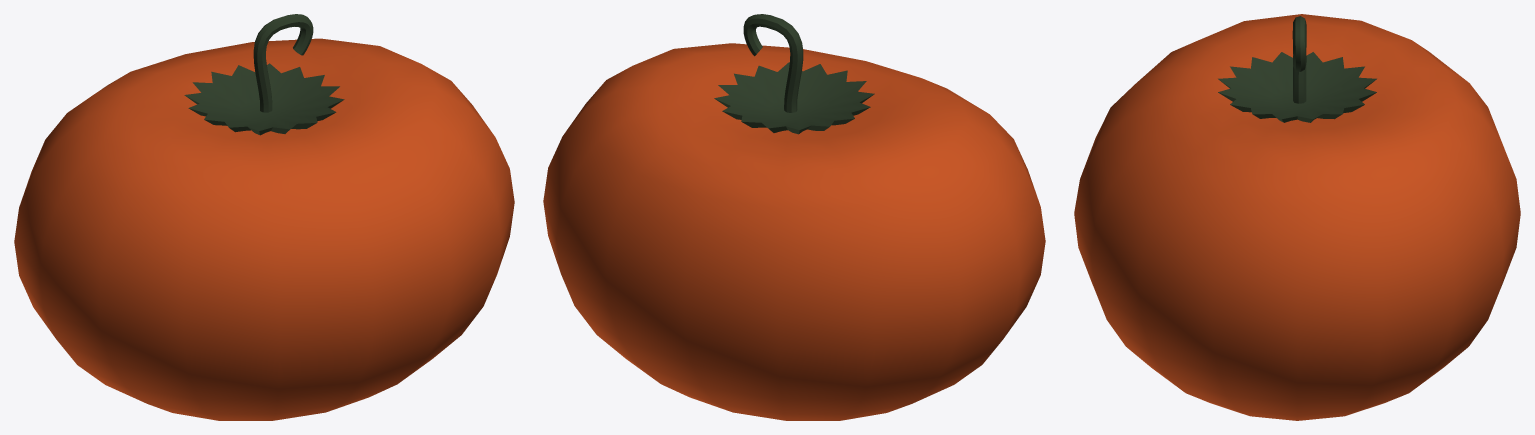
The model's file is pomidor.fbx.
3 renders of one model, left to right at view 1: azimuth 30°, elevation 25°; view 2: azimuth 150°, elevation 25°; view 3: azimuth 270°, elevation 25°, orthographic.
Parts seen in each view (by area): view 1: BézierCurve; view 2: BézierCurve; view 3: BézierCurve.
Boxes of the visible parts, box(x1,y1,x2,y2) form: BézierCurve: box(14, 14, 514, 420); BézierCurve: box(543, 14, 1045, 420); BézierCurve: box(1074, 14, 1520, 420).
Size of the model in its own units: 108 by 128 by 101.
